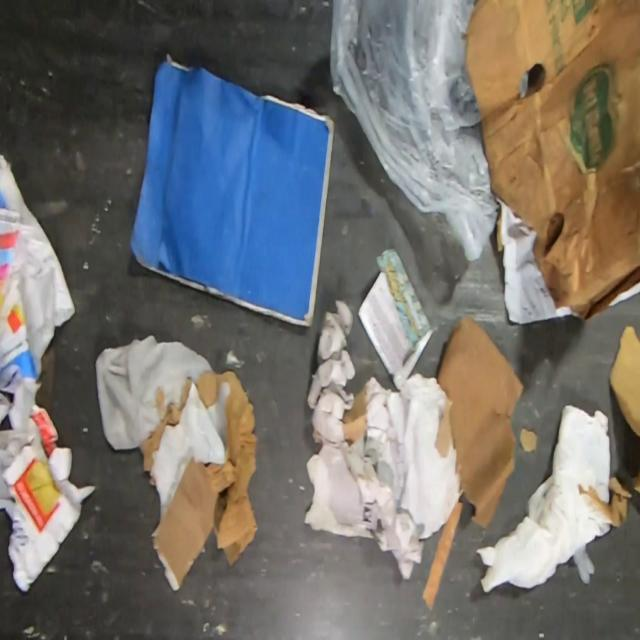cardboard: (123, 47, 336, 332), (466, 0, 640, 320), (342, 314, 524, 611), (138, 369, 258, 593), (575, 324, 640, 527), (519, 426, 538, 451)
soft_plastic: (330, 0, 500, 262)
